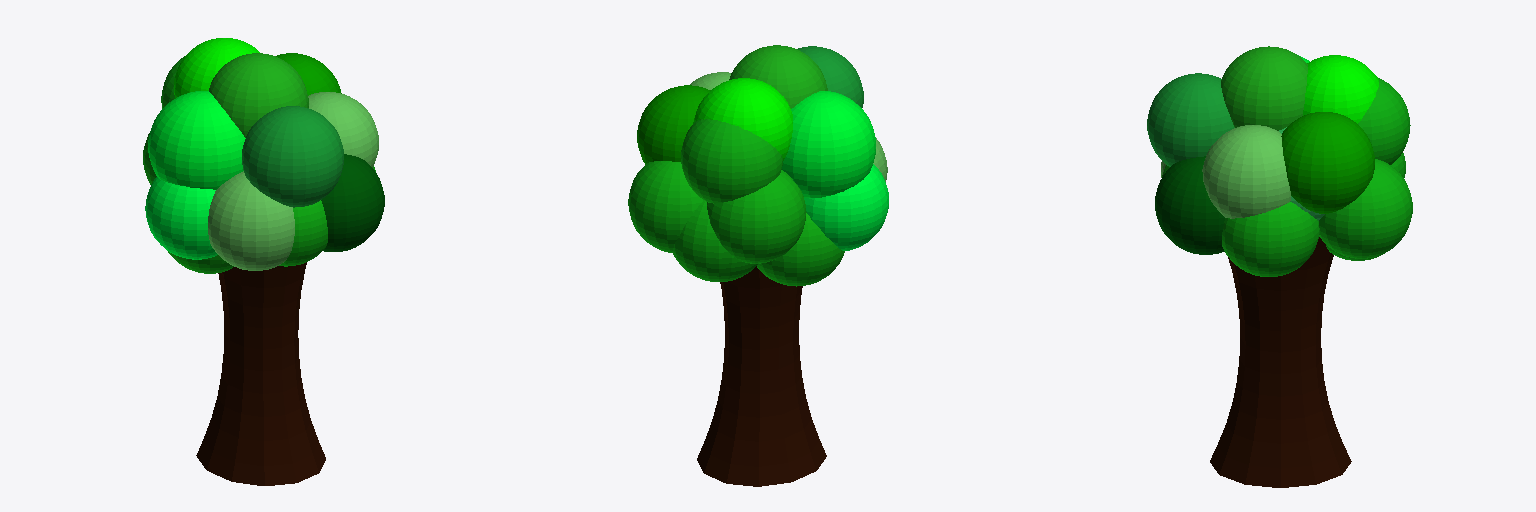
Rendered from tree3.obj.
The picture shows the model from 3 angles: view 1: azimuth 30°, elevation 25°; view 2: azimuth 150°, elevation 25°; view 3: azimuth 270°, elevation 25°; orthographic projection.
Visible parts, largest first — view 1: Capsule, Sphere1, Sphere3, Sphere11, Sphere15, Sphere17, Sphere14, Sphere4, Sphere16, Sphere13, Sphere5, Sphere12; view 2: Capsule, Sphere3, Sphere, Sphere9, Sphere8, Sphere16, Sphere17, Sphere5, Sphere15, Sphere10, Sphere12, Sphere1; view 3: Capsule, Sphere5, Sphere4, Sphere15, Sphere1, Sphere8, Sphere7, Sphere14, Sphere16, Sphere.
Boxes of the visible parts, x1=… form: Capsule: x1=196, y1=262, x2=325, y2=485; Sphere1: x1=242, y1=106, x2=343, y2=207; Sphere3: x1=148, y1=91, x2=245, y2=189; Sphere11: x1=208, y1=171, x2=294, y2=270; Sphere15: x1=209, y1=53, x2=308, y2=137; Sphere17: x1=145, y1=177, x2=217, y2=259; Sphere14: x1=321, y1=154, x2=384, y2=251; Sphere4: x1=308, y1=92, x2=378, y2=167; Sphere16: x1=174, y1=38, x2=259, y2=98; Sphere13: x1=279, y1=200, x2=327, y2=266; Sphere5: x1=276, y1=53, x2=341, y2=95; Sphere12: x1=168, y1=251, x2=233, y2=273; Capsule: x1=697, y1=266, x2=826, y2=486; Sphere3: x1=782, y1=91, x2=875, y2=197; Sphere: x1=681, y1=119, x2=782, y2=203; Sphere9: x1=707, y1=170, x2=806, y2=263; Sphere8: x1=628, y1=161, x2=702, y2=252; Sphere16: x1=693, y1=78, x2=792, y2=160; Sphere17: x1=804, y1=164, x2=888, y2=250; Sphere5: x1=637, y1=85, x2=710, y2=164; Sphere15: x1=729, y1=45, x2=827, y2=108; Sphere10: x1=672, y1=200, x2=757, y2=281; Sphere12: x1=757, y1=213, x2=844, y2=286; Sphere1: x1=797, y1=46, x2=863, y2=107; Capsule: x1=1210, y1=237, x2=1351, y2=487; Sphere5: x1=1281, y1=112, x2=1374, y2=213; Sphere4: x1=1202, y1=125, x2=1290, y2=218; Sphere15: x1=1221, y1=46, x2=1307, y2=130; Sphere1: x1=1147, y1=73, x2=1234, y2=166; Sphere8: x1=1319, y1=159, x2=1412, y2=258; Sphere7: x1=1222, y1=202, x2=1319, y2=276; Sphere14: x1=1155, y1=156, x2=1224, y2=254; Sphere16: x1=1303, y1=55, x2=1378, y2=123; Sphere: x1=1358, y1=78, x2=1410, y2=164.
Size of the model in its own units: 2.95 by 5.23 by 3.11.